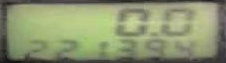-: (146, 30, 158, 36)
0: (159, 6, 193, 34), (113, 7, 145, 35)
1: (94, 40, 109, 60)
2: (54, 38, 77, 59), (23, 39, 47, 59)
3: (115, 37, 135, 58)
4: (173, 40, 195, 57)
9: (141, 37, 165, 59)
